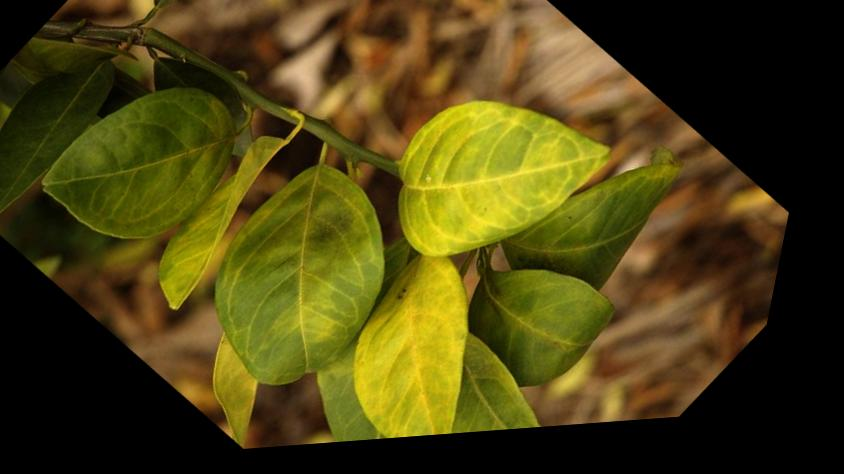Citrus Greening: (159, 140, 472, 426), (342, 43, 645, 319), (22, 33, 295, 284), (306, 232, 595, 452)
